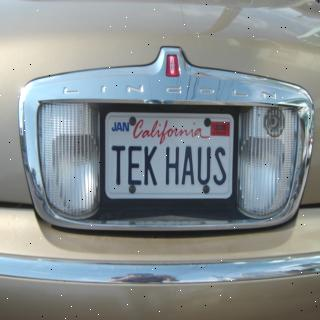license: (90, 104, 258, 215)
